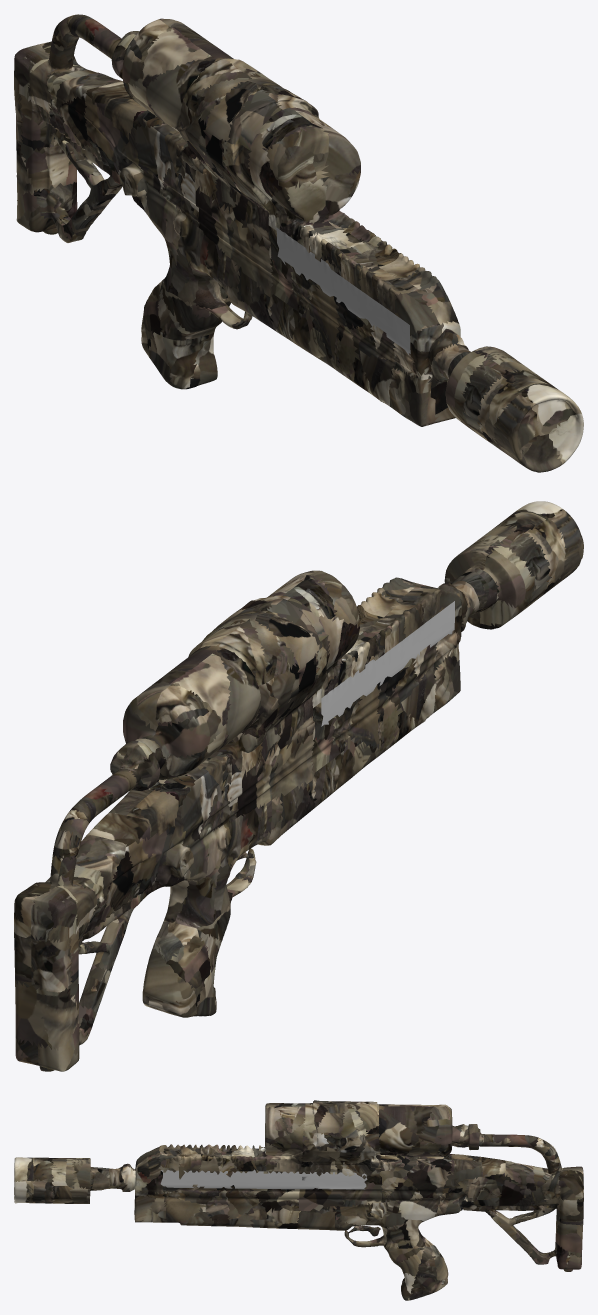
File: flamethrower mod.fbx
The picture shows the model from 3 angles, top to bottom: view 1: azimuth 30°, elevation 25°; view 2: azimuth 150°, elevation 25°; view 3: azimuth 270°, elevation 25°; orthographic projection. The views are drawn at different scales.
Visible parts, largest first — view 1: Mesh_0; view 2: Mesh_0; view 3: Mesh_0.
Part boxes in pixels (x1,y1,x2,y2): Mesh_0: [14, 14, 583, 472]; Mesh_0: [14, 501, 583, 1071]; Mesh_0: [14, 1100, 583, 1300].
Size of the model in its own units: 20.93 by 74.54 by 200.
